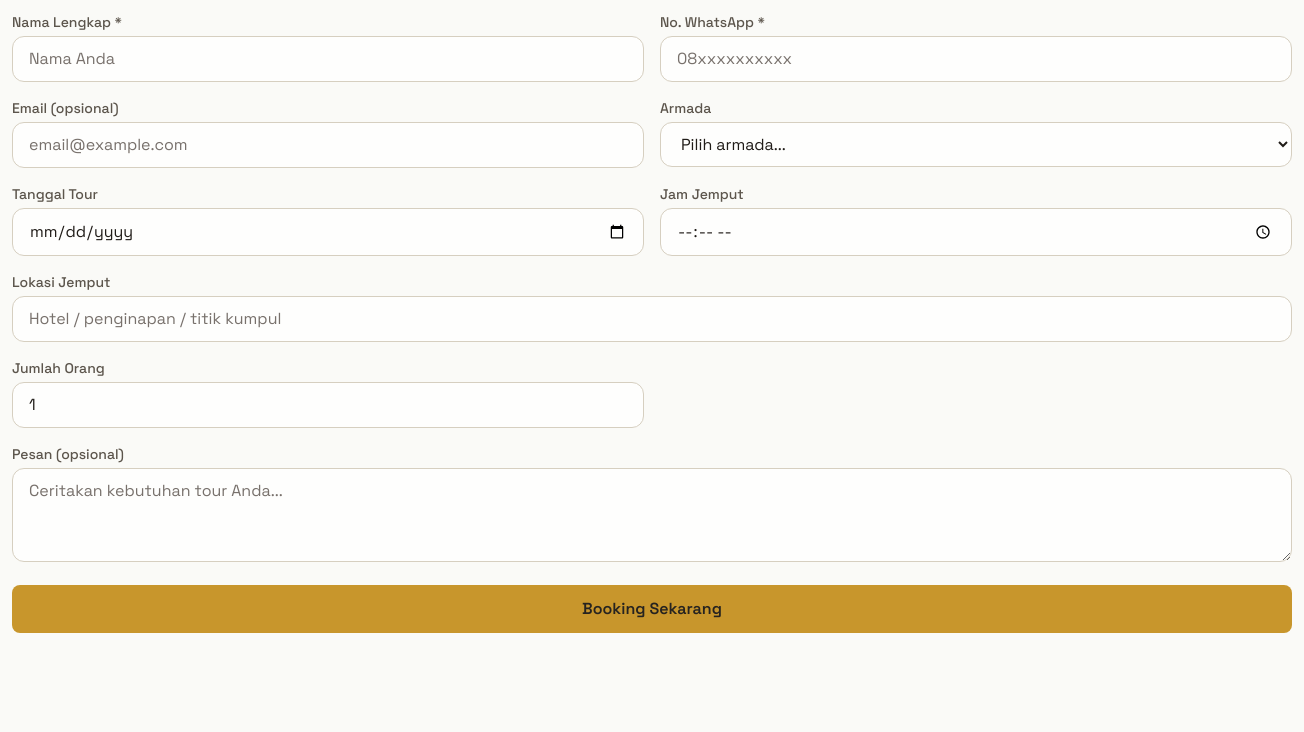
Test: BookingForm (frontend) › action error → menampilkan pesan error
Type "Budi" into the field with placeholder "Nama Anda". click: (328, 59)
box: [12,36,644,82]
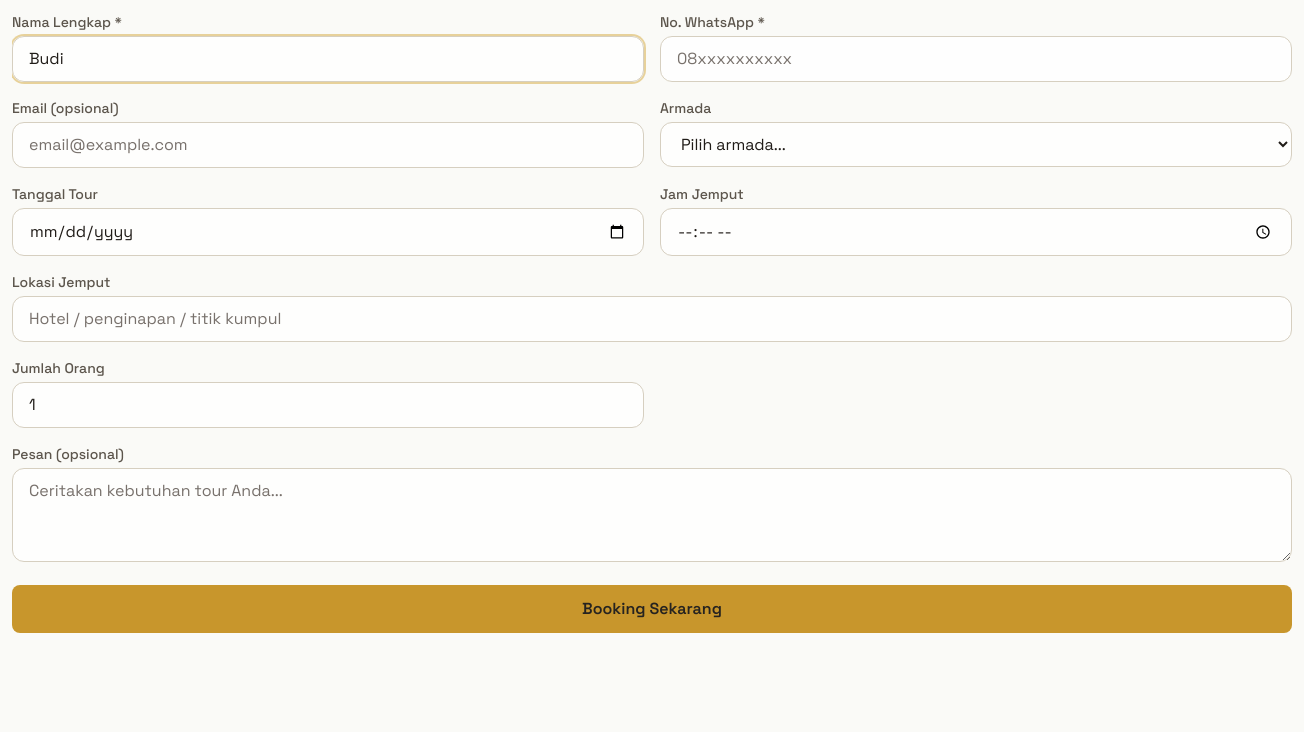
Type "08123456789" into the field with placeholder "08xxxxxxxxxx". click: (976, 59)
box: [660,36,1292,82]
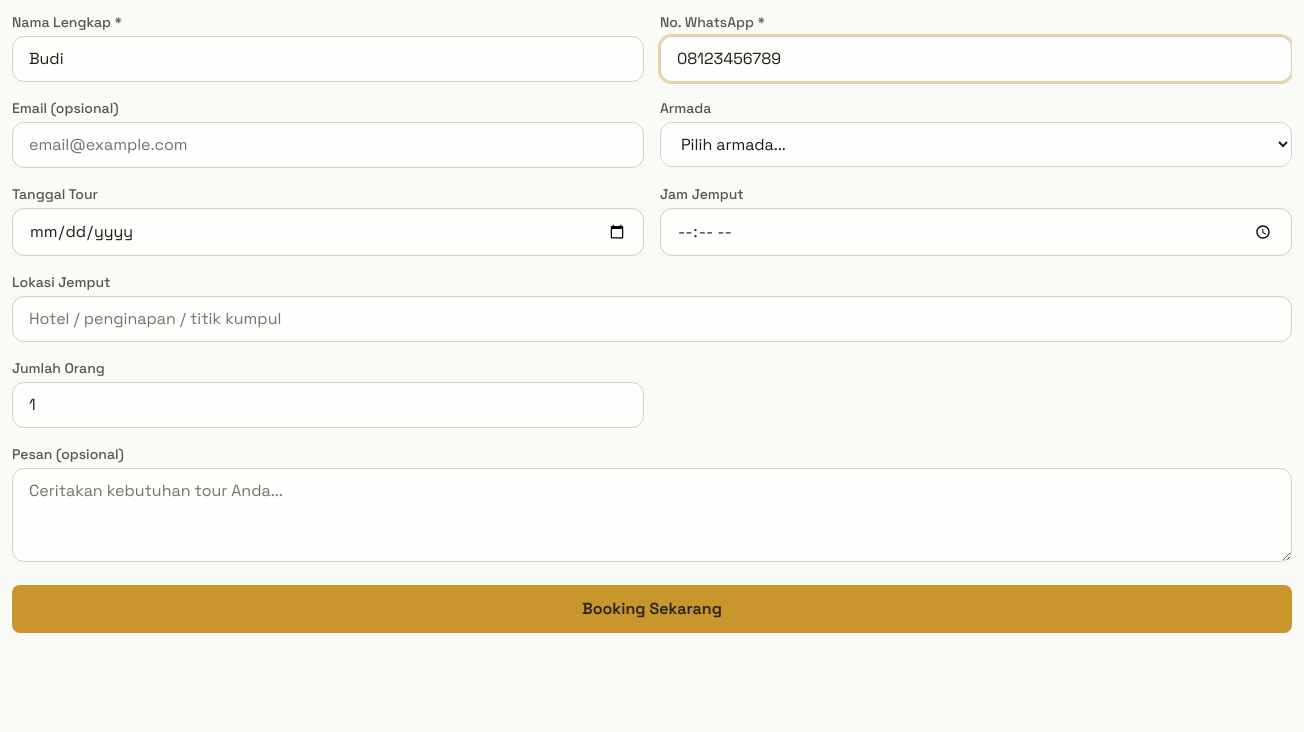
Click the button "Booking Sekarang". click: (652, 609)
box: [12,585,1292,633]
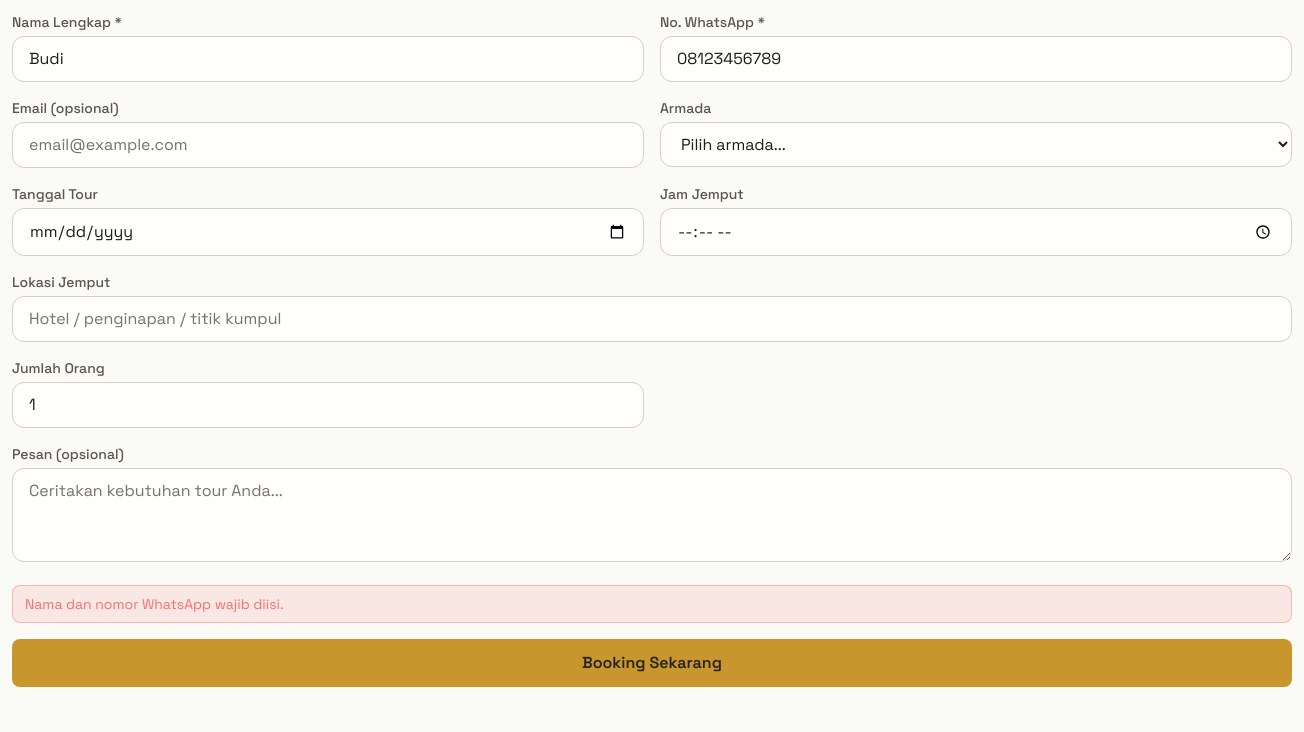
Expected: the text "Nama dan nomor WhatsApp wajib diisi." is shown, [12,585,1292,623]
